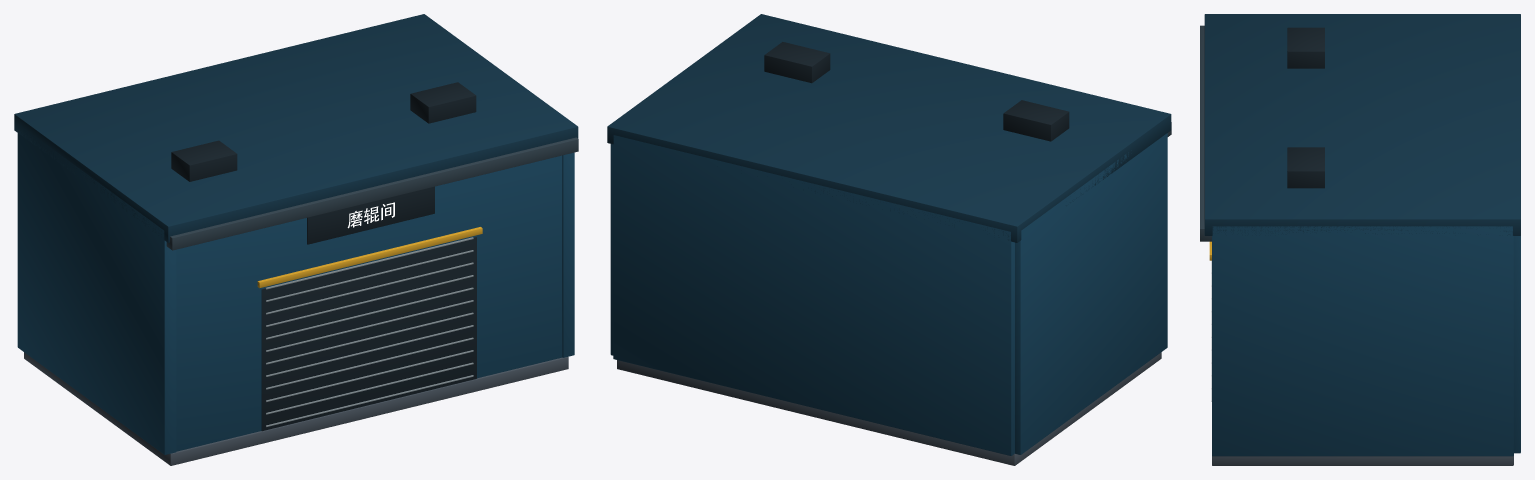
The model's file is roll_shop.glb.
3 views of the same model, side by side, from view 1: azimuth 30°, elevation 25°; view 2: azimuth 150°, elevation 25°; view 3: azimuth 270°, elevation 25° (orthographic). The views are drawn at different scales.
Visible parts, largest first — view 1: Asset_roll_shop; view 2: Asset_roll_shop; view 3: Asset_roll_shop.
Part boxes in pixels (<box>): Asset_roll_shop: <box>14,14,578,465</box>; Asset_roll_shop: <box>607,14,1171,465</box>; Asset_roll_shop: <box>1200,14,1520,465</box>.
Size of the model in its own units: 10.3 by 6.25 by 6.8.
